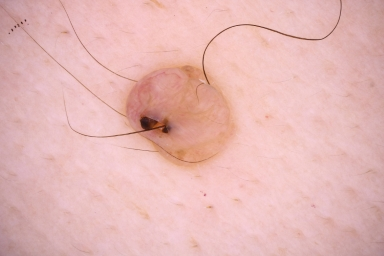nevus: (129, 68, 232, 163)
